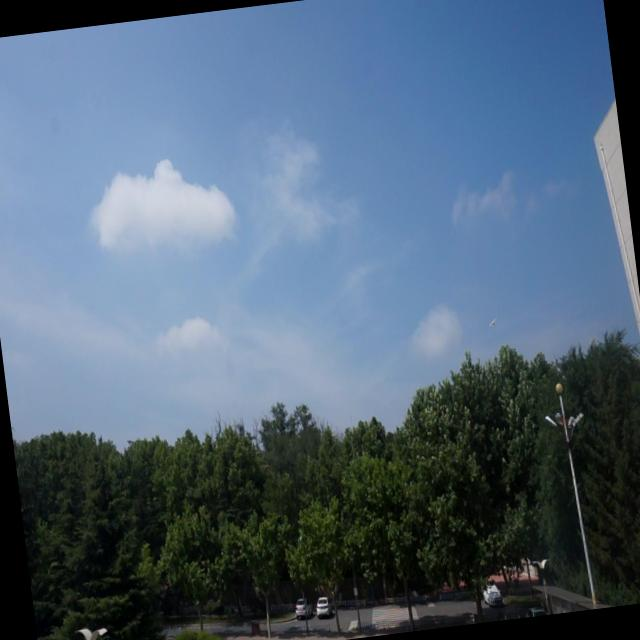drone: (488, 316, 498, 330)
